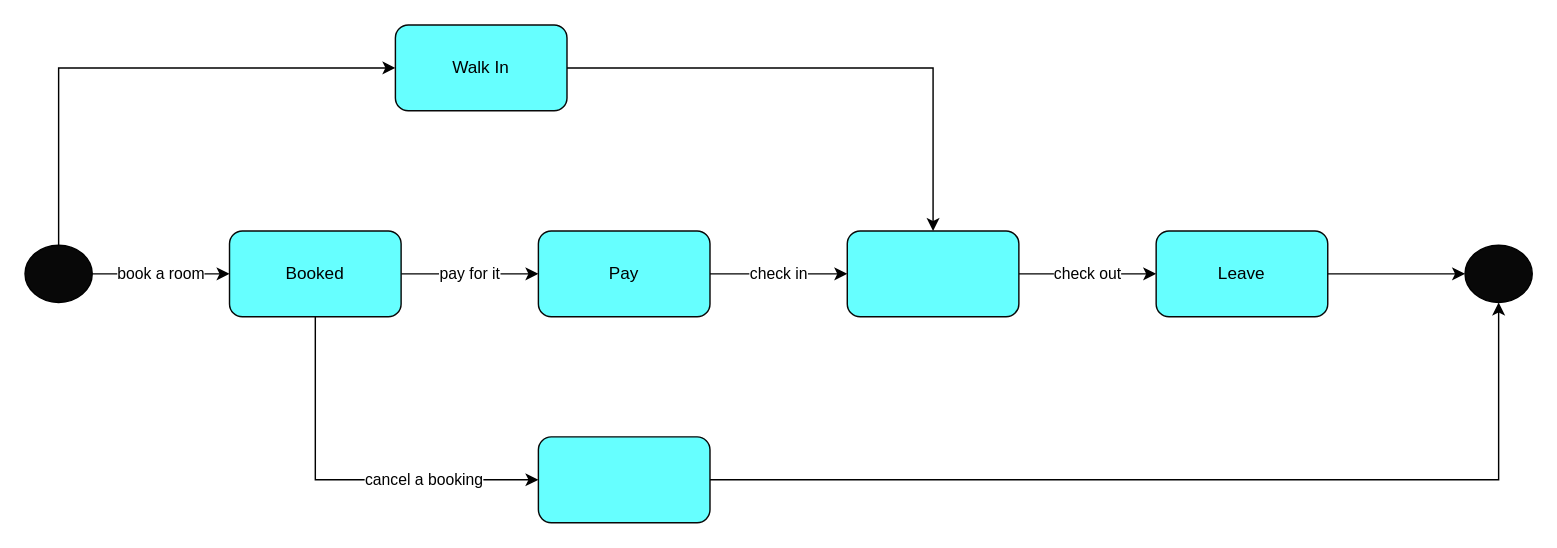
This 1557x548 diagram has some shape labels left out. The box of each missing label's shape, as (x1, y1, x2, y2) in pixels:
cancelled: (537, 435, 710, 523)
Staying: (846, 230, 1019, 317)
